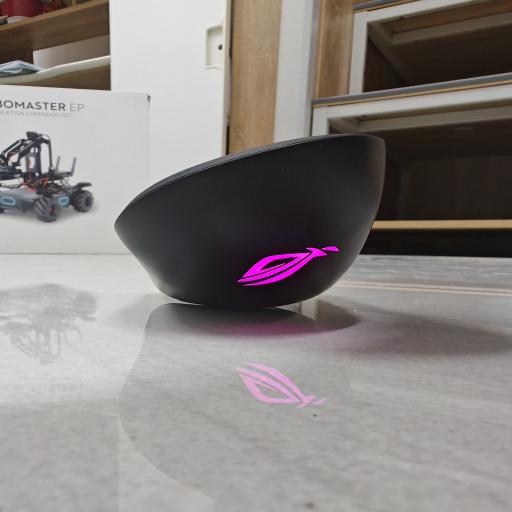mouse: (115, 134, 385, 308)
